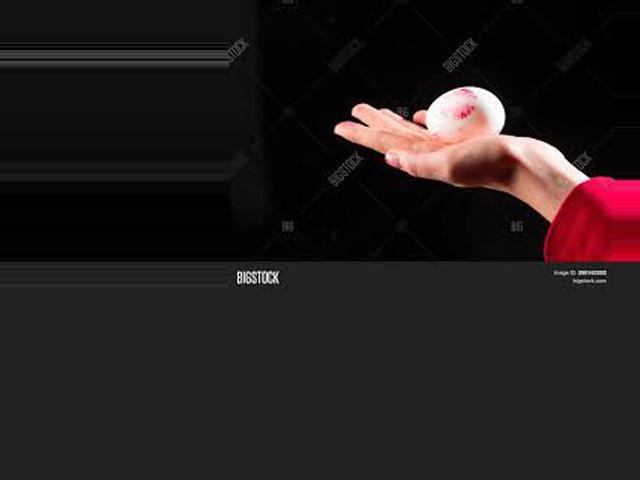egg: (428, 86, 506, 138)
